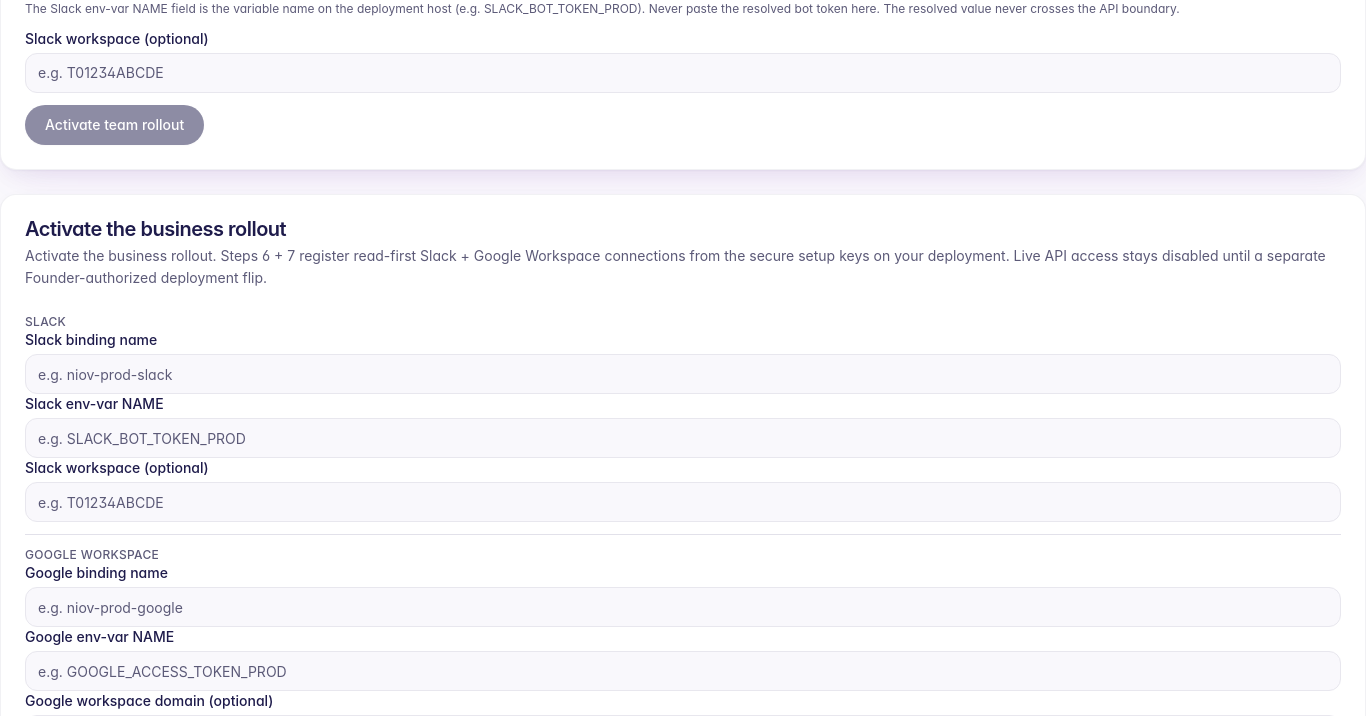
Test: D6 business — successful activation › highlights BOTH step 6 (Slack binding) AND step 7 (Google binding)
The width and height of the screenshot is (1366, 716).
(page scrolled)
In the field with test id "business-slack-display-name-input": (683, 374) [25,354,1341,394], type "niov-prod-slack"
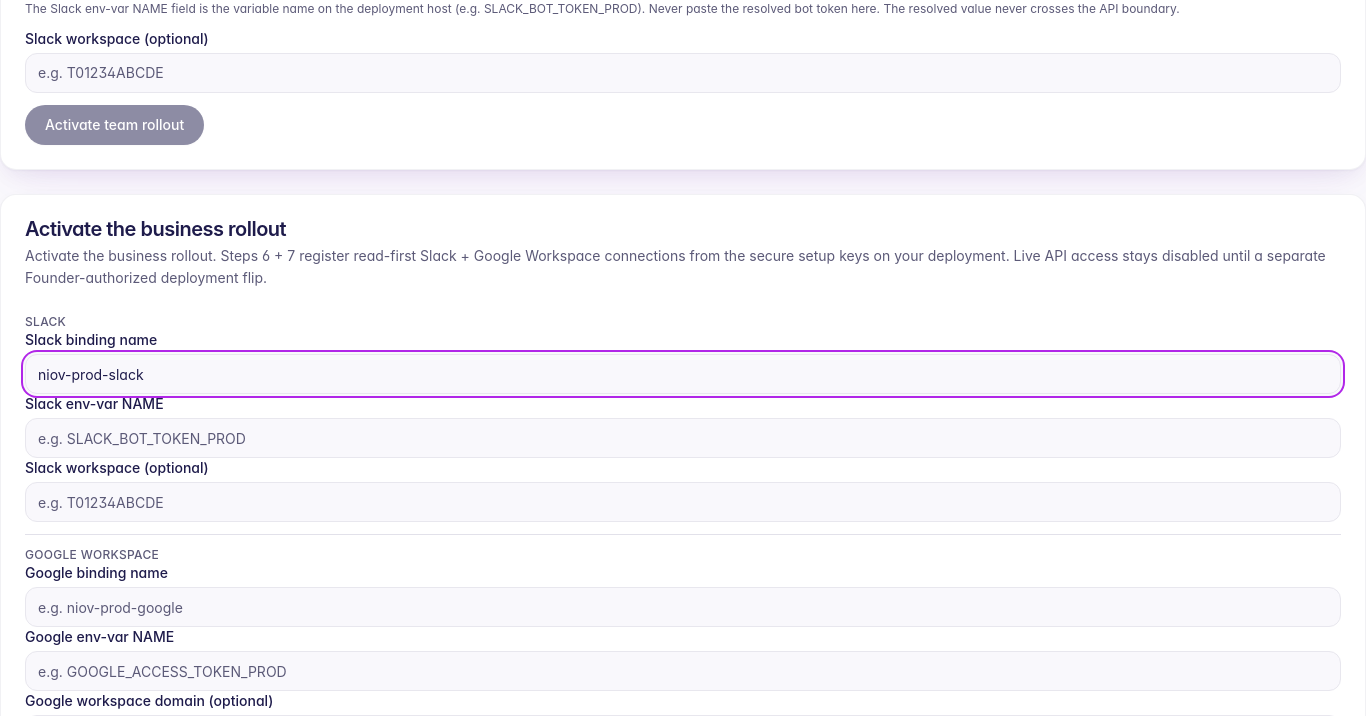
In the field with test id "business-slack-secret-ref-input": (683, 438) [25,418,1341,458], type "SLACK_BOT_TOKEN_PROD"
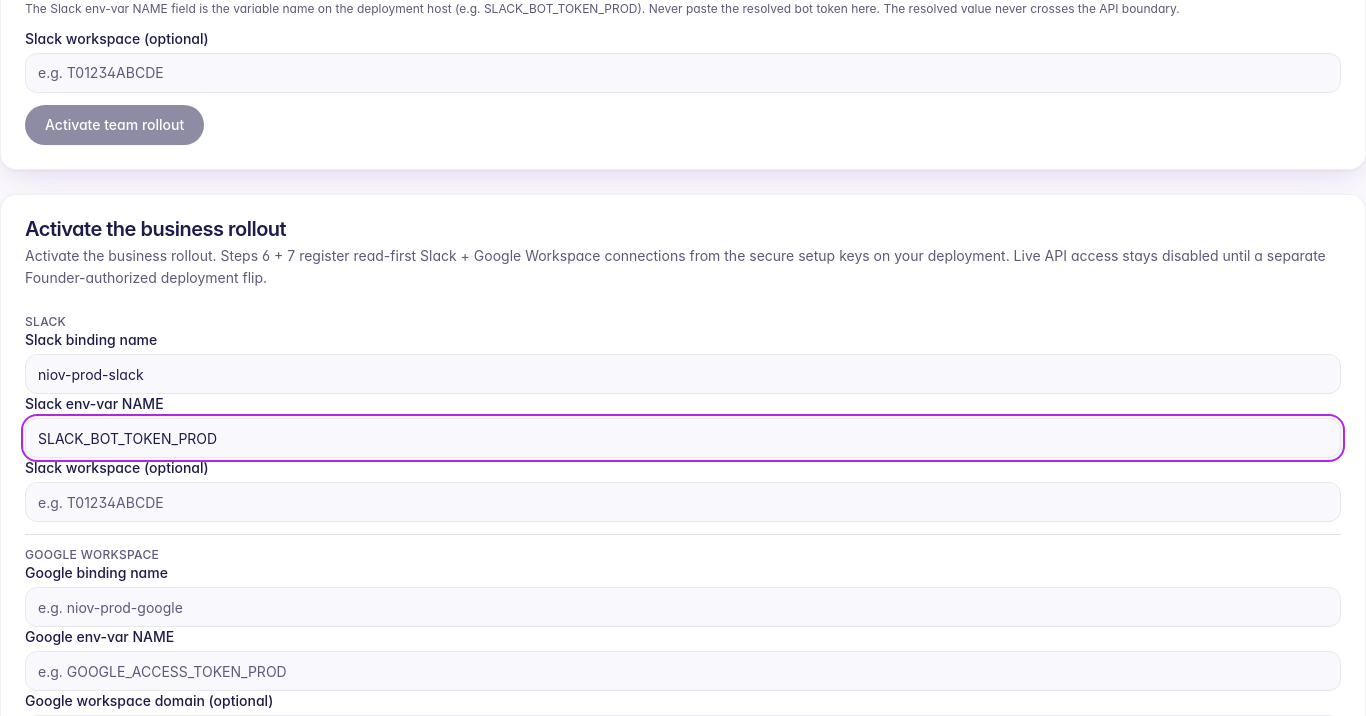
In the field with test id "business-google-display-name-input": (683, 607) [25,587,1341,627], type "niov-prod-google"
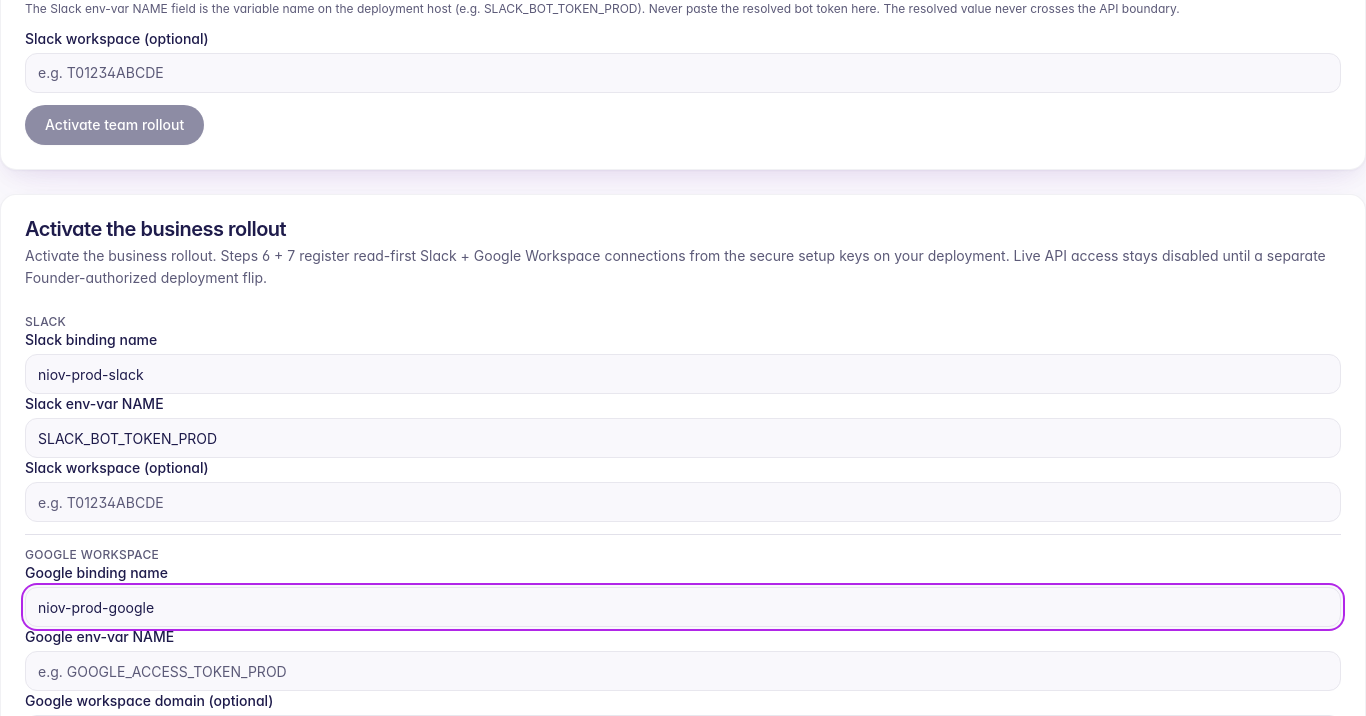
In the field with test id "business-google-secret-ref-input": (683, 671) [25,651,1341,691], type "GOOGLE_ACCESS_TOKEN_PROD"
(page scrolled)
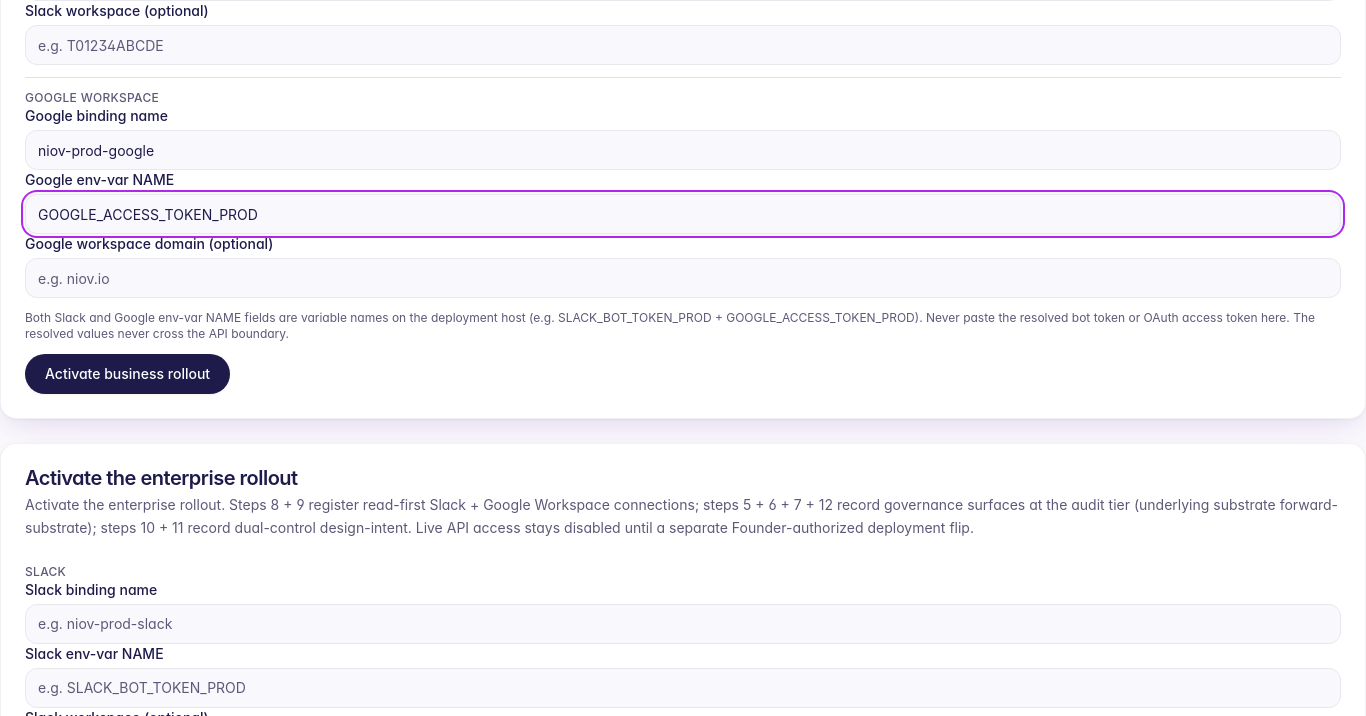
Click the button with test id "activate-business-button": (128, 374) [25,354,230,394]
(page scrolled)
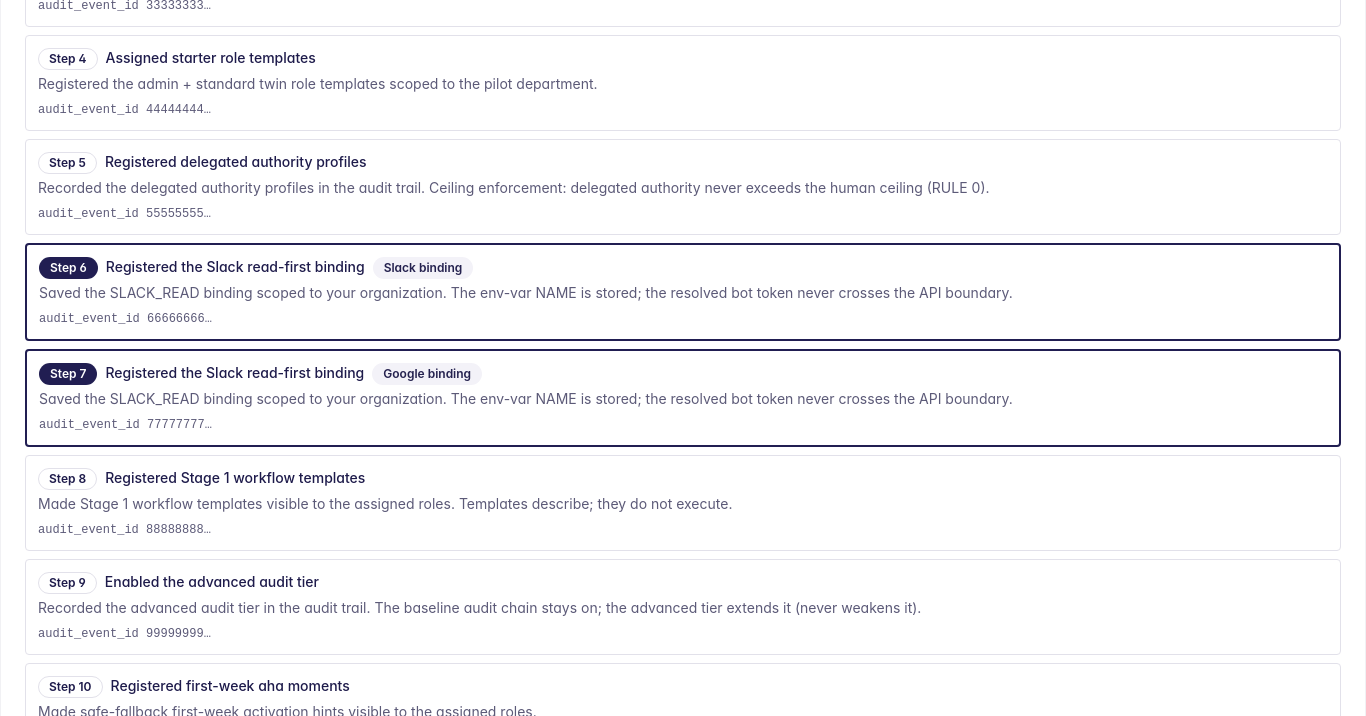
Result: the text "Slack binding" is shown at [373,257,473,279]
Result: the text "Google binding" is shown at [372,363,482,385]
